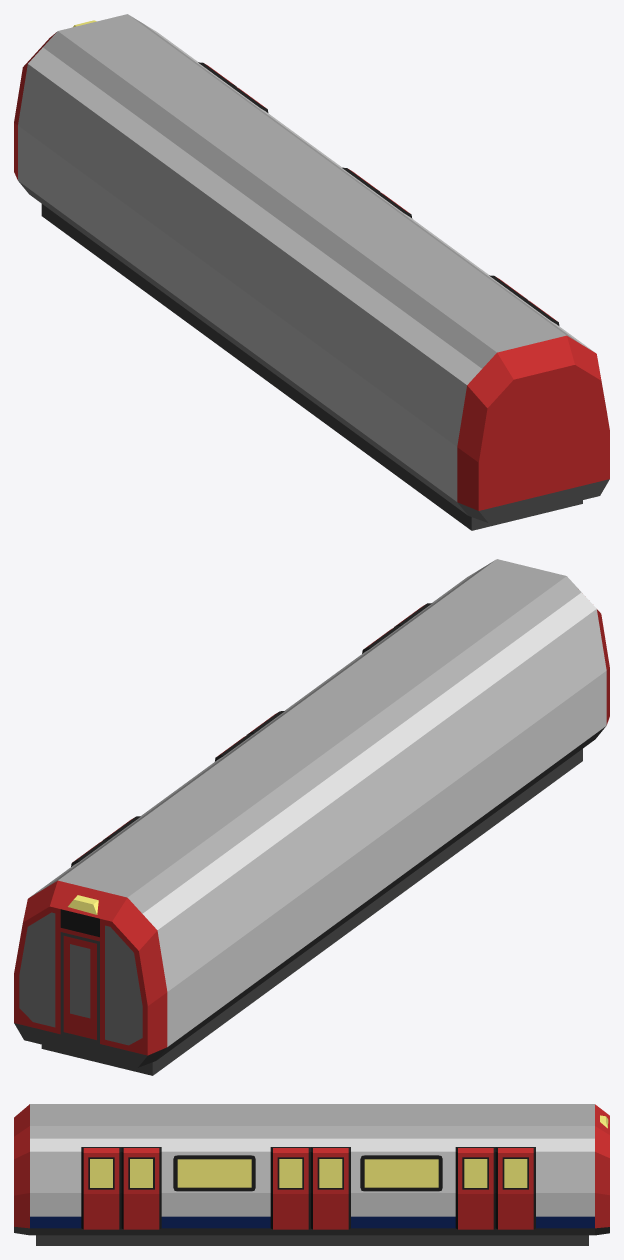
The model's file is bakerStreet_Train.fbx.
3 renders of one model, top to bottom at view 1: azimuth 30°, elevation 25°; view 2: azimuth 150°, elevation 25°; view 3: azimuth 270°, elevation 25°, orthographic. The views are drawn at different scales.
Parts seen in each view (by area): view 1: Cube, Cube.002; view 2: Cube, Cube.002; view 3: Cube, Cube.002.
Part boxes in pixels (<box>): Cube: <box>14,14,609,530</box>; Cube.002: <box>198,62,559,325</box>; Cube: <box>14,559,609,1075</box>; Cube.002: <box>71,603,432,866</box>; Cube: <box>14,1104,609,1245</box>; Cube.002: <box>81,1147,535,1229</box>.
Bounding box in the file's own units: 414 × 456 × 2168.
